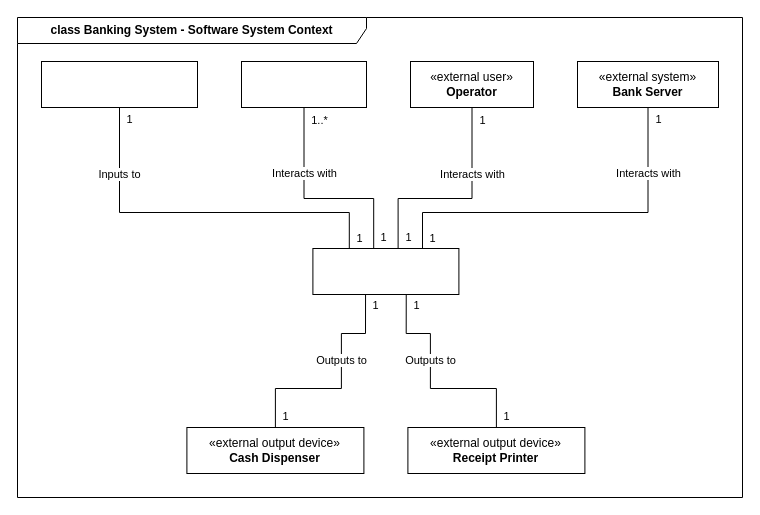
The diagram is 760 pixels wide and 515 high, and some of its shapes have lost their labels. Here are the shapes that lost their labels. From the top down, the centre of each, then its label:
At pixel 119 84: "«external I/O device» Card Reader".
At pixel 303 84: "«external user» ATM Customer".
At pixel 385 271: "«software system» Banking System".
